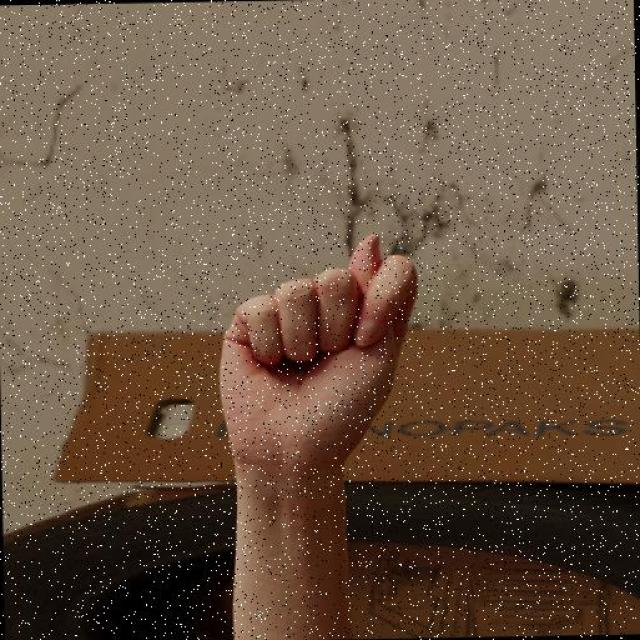T: (210, 226, 426, 482)
